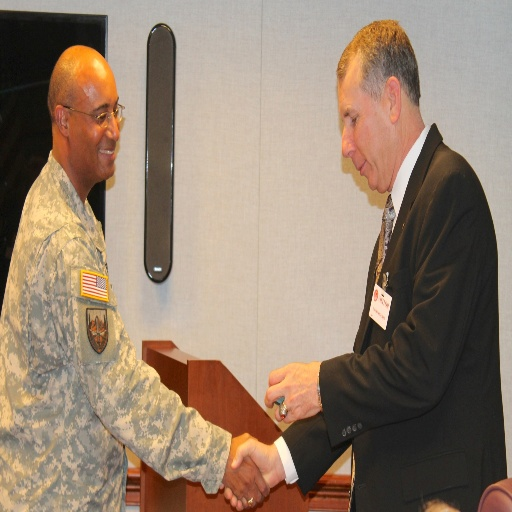hand: (262, 362, 328, 439), (218, 437, 281, 511), (221, 432, 271, 511)
